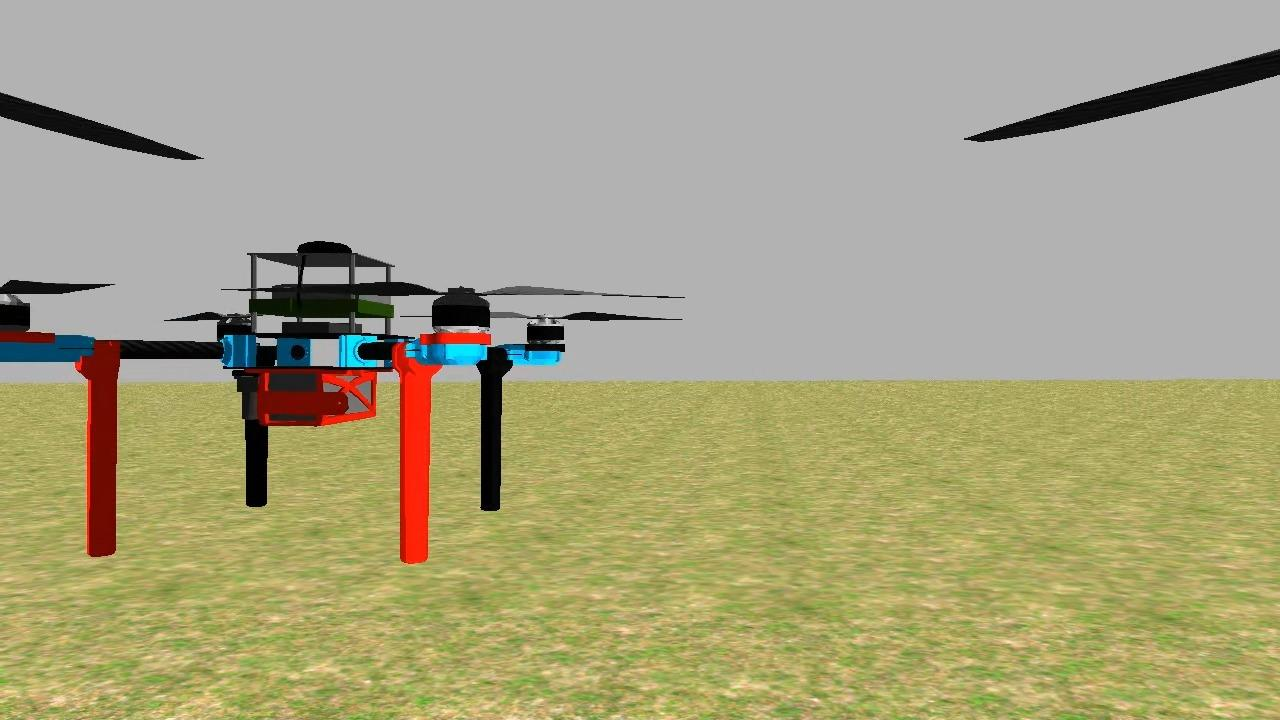UAV: (1, 234, 576, 574)
